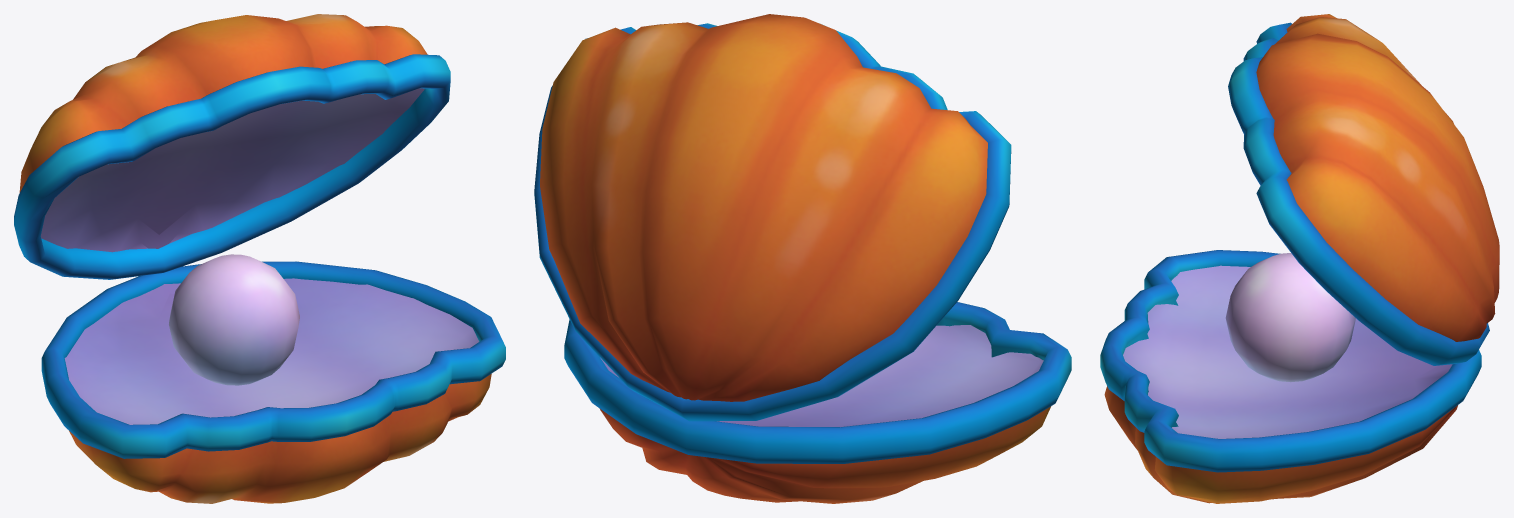
3 renders of one model, left to right at view 1: azimuth 30°, elevation 25°; view 2: azimuth 150°, elevation 25°; view 3: azimuth 270°, elevation 25°, orthographic. The views are drawn at different scales.
Visible parts, largest first — view 1: wk_s02_28; view 2: wk_s02_28; view 3: wk_s02_28.
Boxes of the visible parts, x1=… form: wk_s02_28: x1=14, y1=14, x2=505, y2=503; wk_s02_28: x1=534, y1=14, x2=1071, y2=503; wk_s02_28: x1=1100, y1=14, x2=1499, y2=503.
Size of the model in its own units: 8.85 by 7.51 by 8.81.
1 material, 1 textured.
